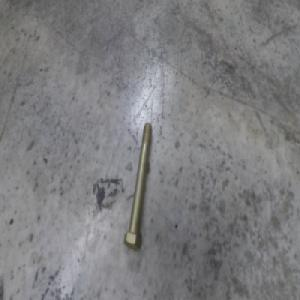Bolt: (125, 123, 152, 251)
